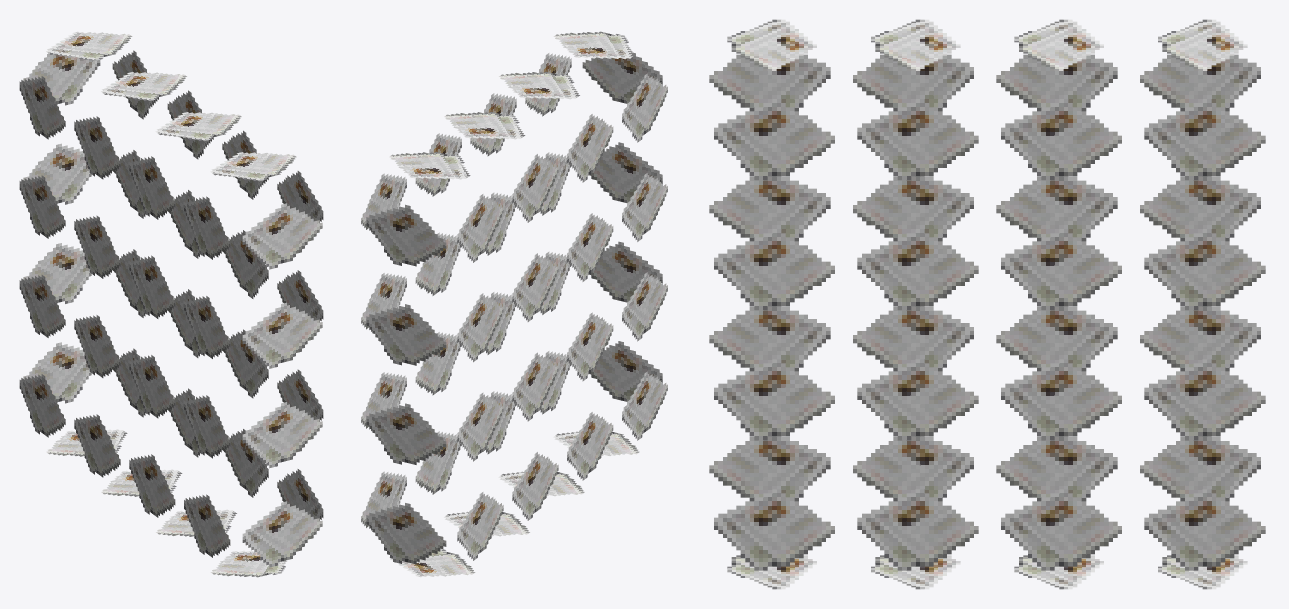
The model's file is ConstructionCube4by4.fbx.
3 renders of one model, left to right at view 1: azimuth 30°, elevation 25°; view 2: azimuth 150°, elevation 25°; view 3: azimuth 270°, elevation 25°, orthographic. The views are drawn at different scales.
Visible parts, largest first — view 1: Cube; view 2: Cube; view 3: Cube.
Boxes of the visible parts, <box> form: Cube: <box>19,31,323,577</box>; Cube: <box>361,31,667,577</box>; Cube: <box>709,19,1265,589</box>.
Size of the model in its own units: 200 by 800 by 800.
